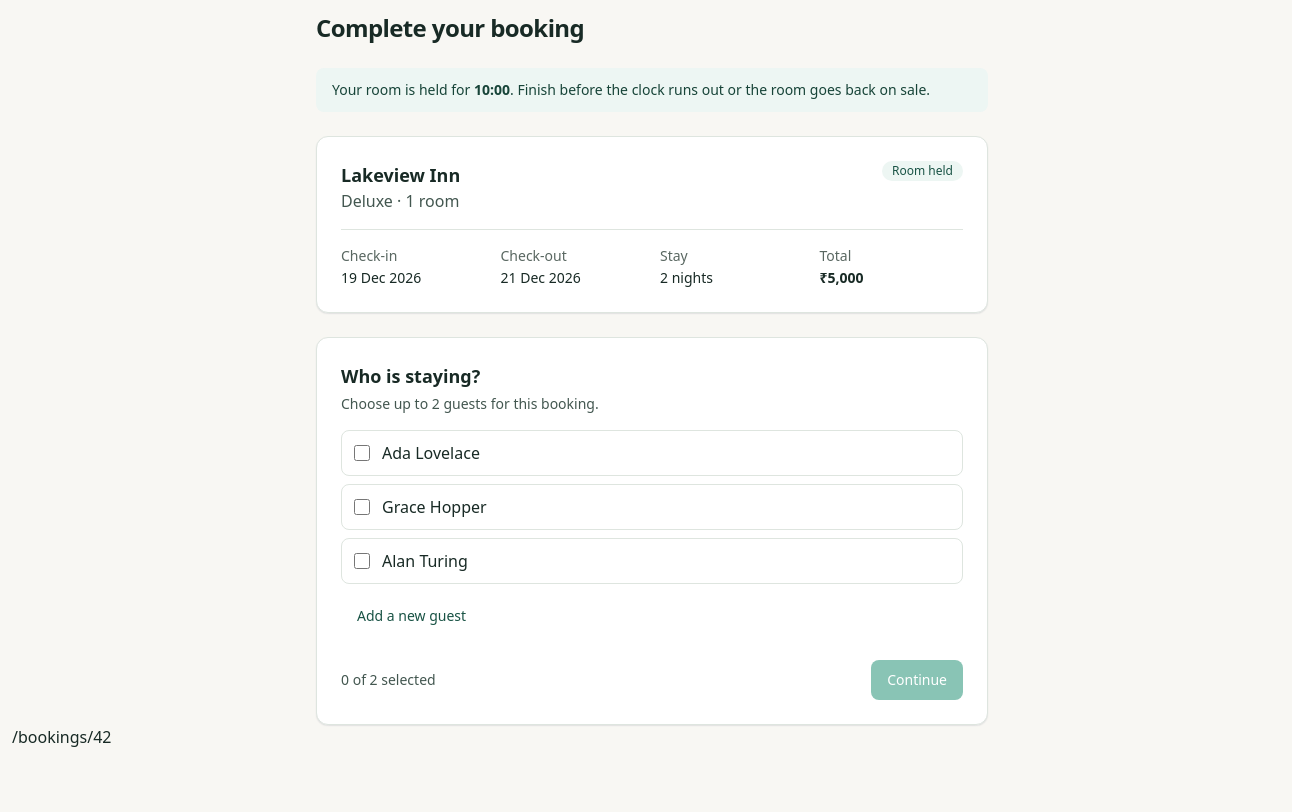
a held booking › sends the chosen guests and moves on to payment
Click the checkbox labelled "Grace Hopper". click: (362, 507)
box: [354,499,370,515]
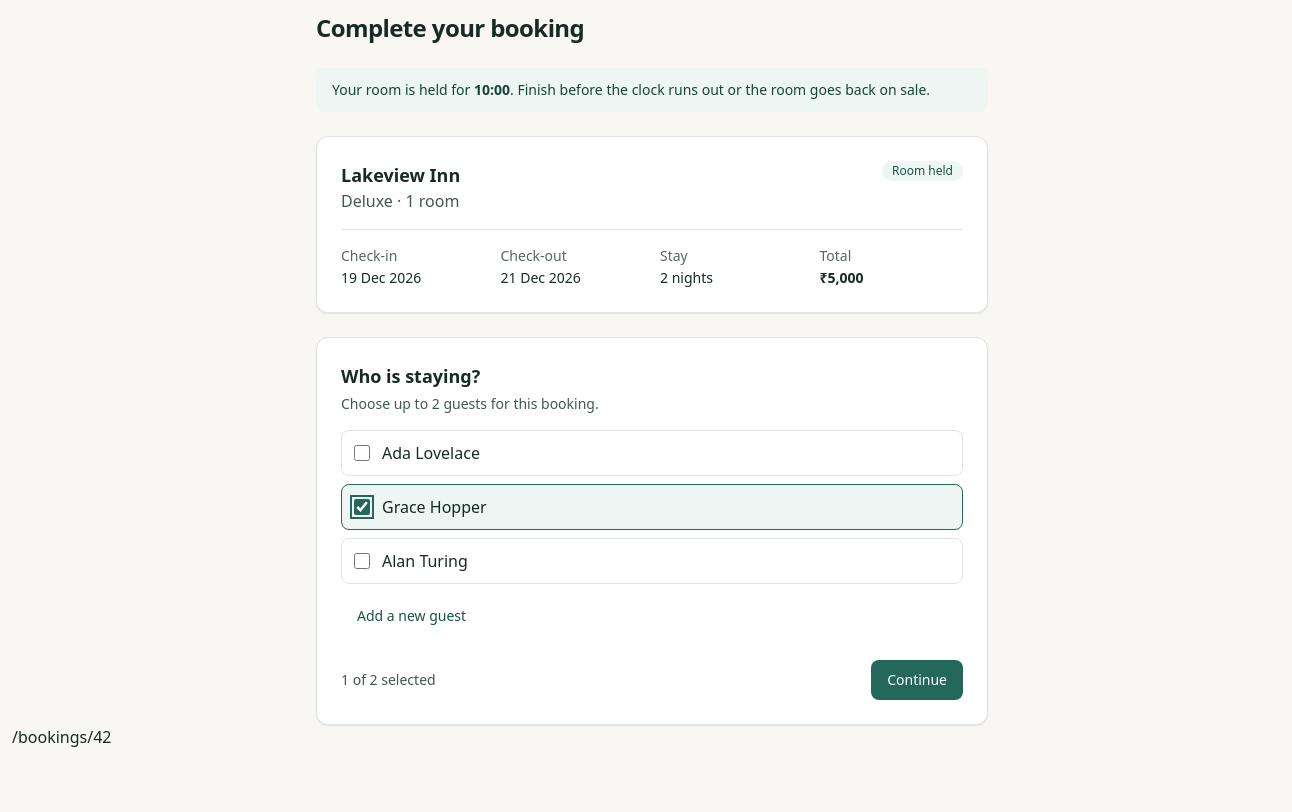
Click the button "Continue". click: (917, 680)
box: [871,660,963,700]
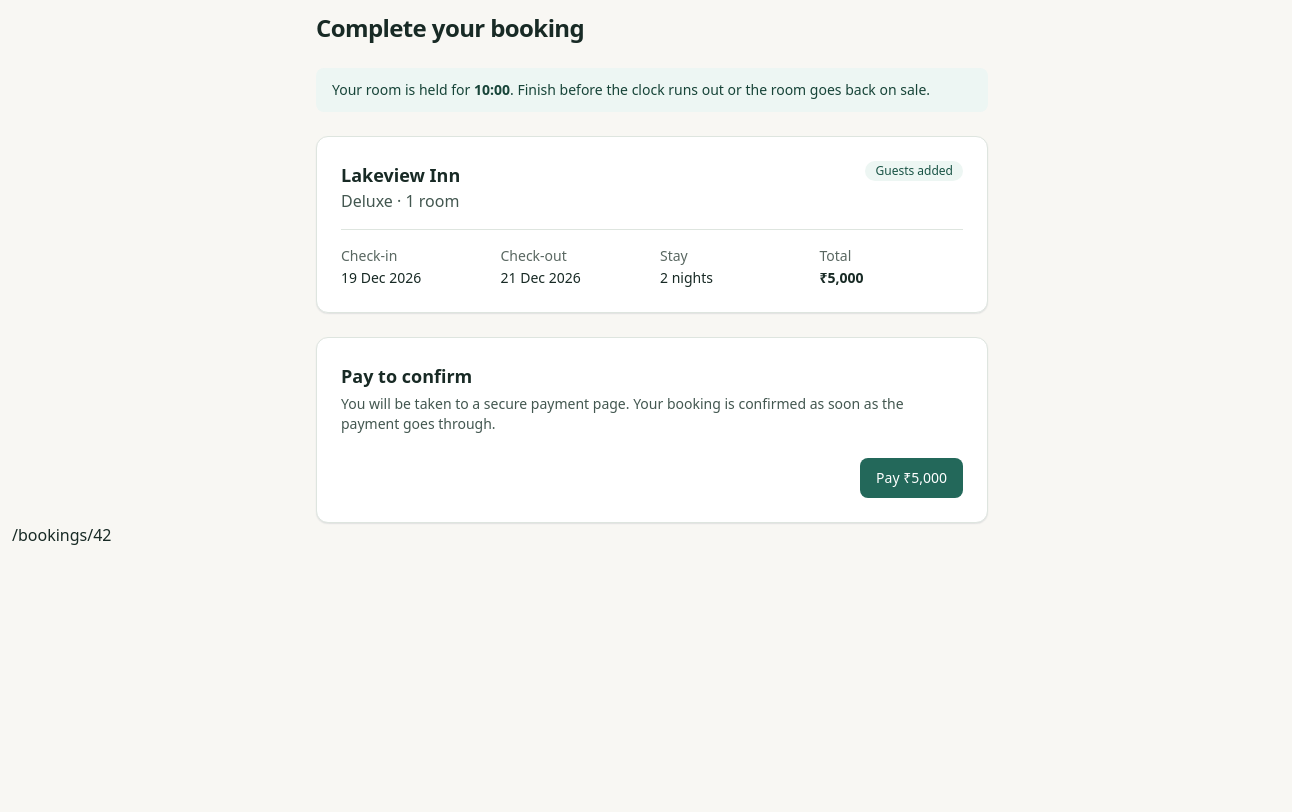
Expected: the heading "Pay to confirm" is shown, [341,364,472,388]
Expected: the button "Pay ₹5,000" is shown, [860,458,963,498]
